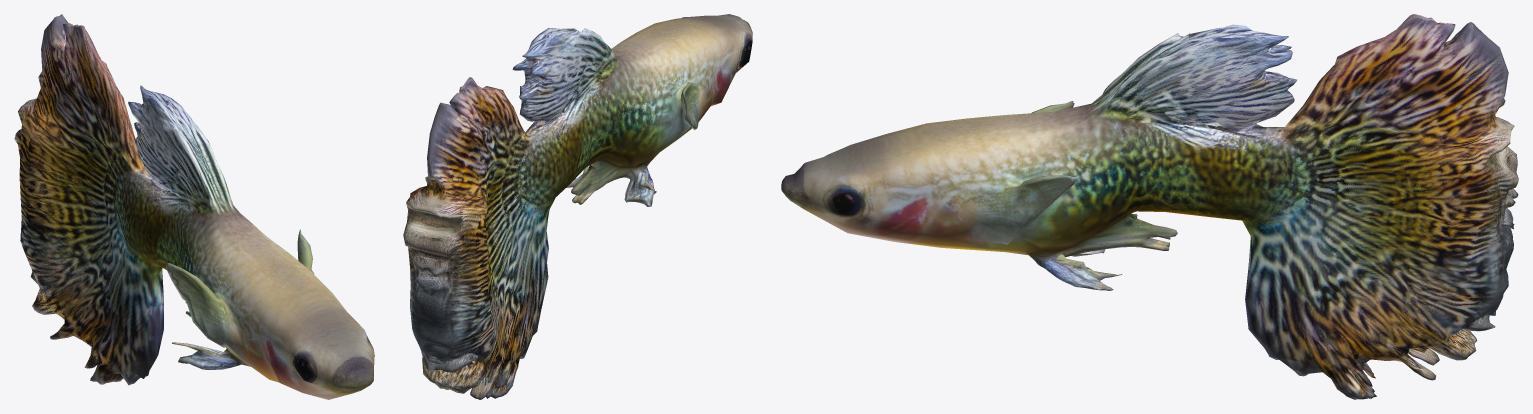
File: guppy_platinum_red_tiger_mesh.glb
3 views of the same model, side by side, from view 1: azimuth 30°, elevation 25°; view 2: azimuth 150°, elevation 25°; view 3: azimuth 270°, elevation 25° (orthographic). The views are drawn at different scales.
Size of the model in its own units: 0.4588 by 1.09 by 1.9.
1 material, 1 textured.
